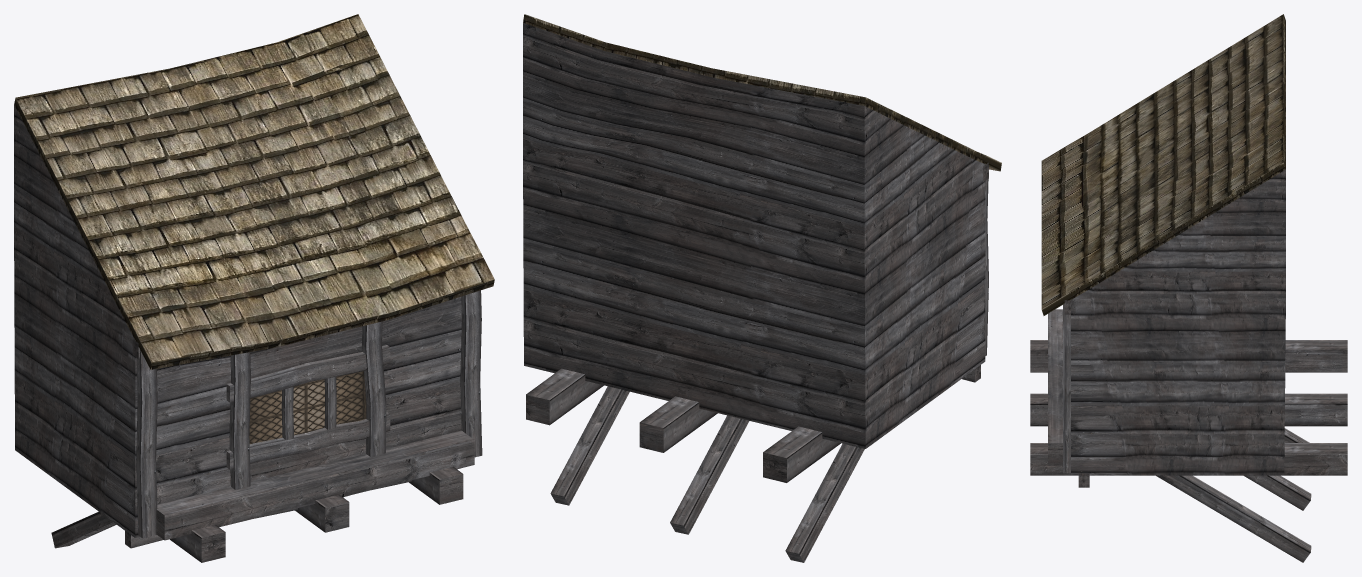
File: v3_balcony3.dae
The picture shows the model from 3 angles, left to right: view 1: azimuth 30°, elevation 25°; view 2: azimuth 150°, elevation 25°; view 3: azimuth 270°, elevation 25°; orthographic projection. The views are drawn at different scales.
Visible parts, largest first — view 1: roof_01, wood_planks, doorwindow_set; view 2: wood_planks, roof_01; view 3: wood_planks, roof_01.
Part boxes in pixels (x1,y1,x2,y2): roof_01: [14, 14, 494, 369]; wood_planks: [14, 104, 482, 562]; doorwindow_set: [249, 371, 366, 444]; wood_planks: [523, 22, 988, 562]; roof_01: [523, 14, 1001, 171]; wood_planks: [1030, 169, 1347, 562]; roof_01: [1041, 14, 1285, 315].
Size of the model in its own units: 8 by 10.52 by 7.23.
